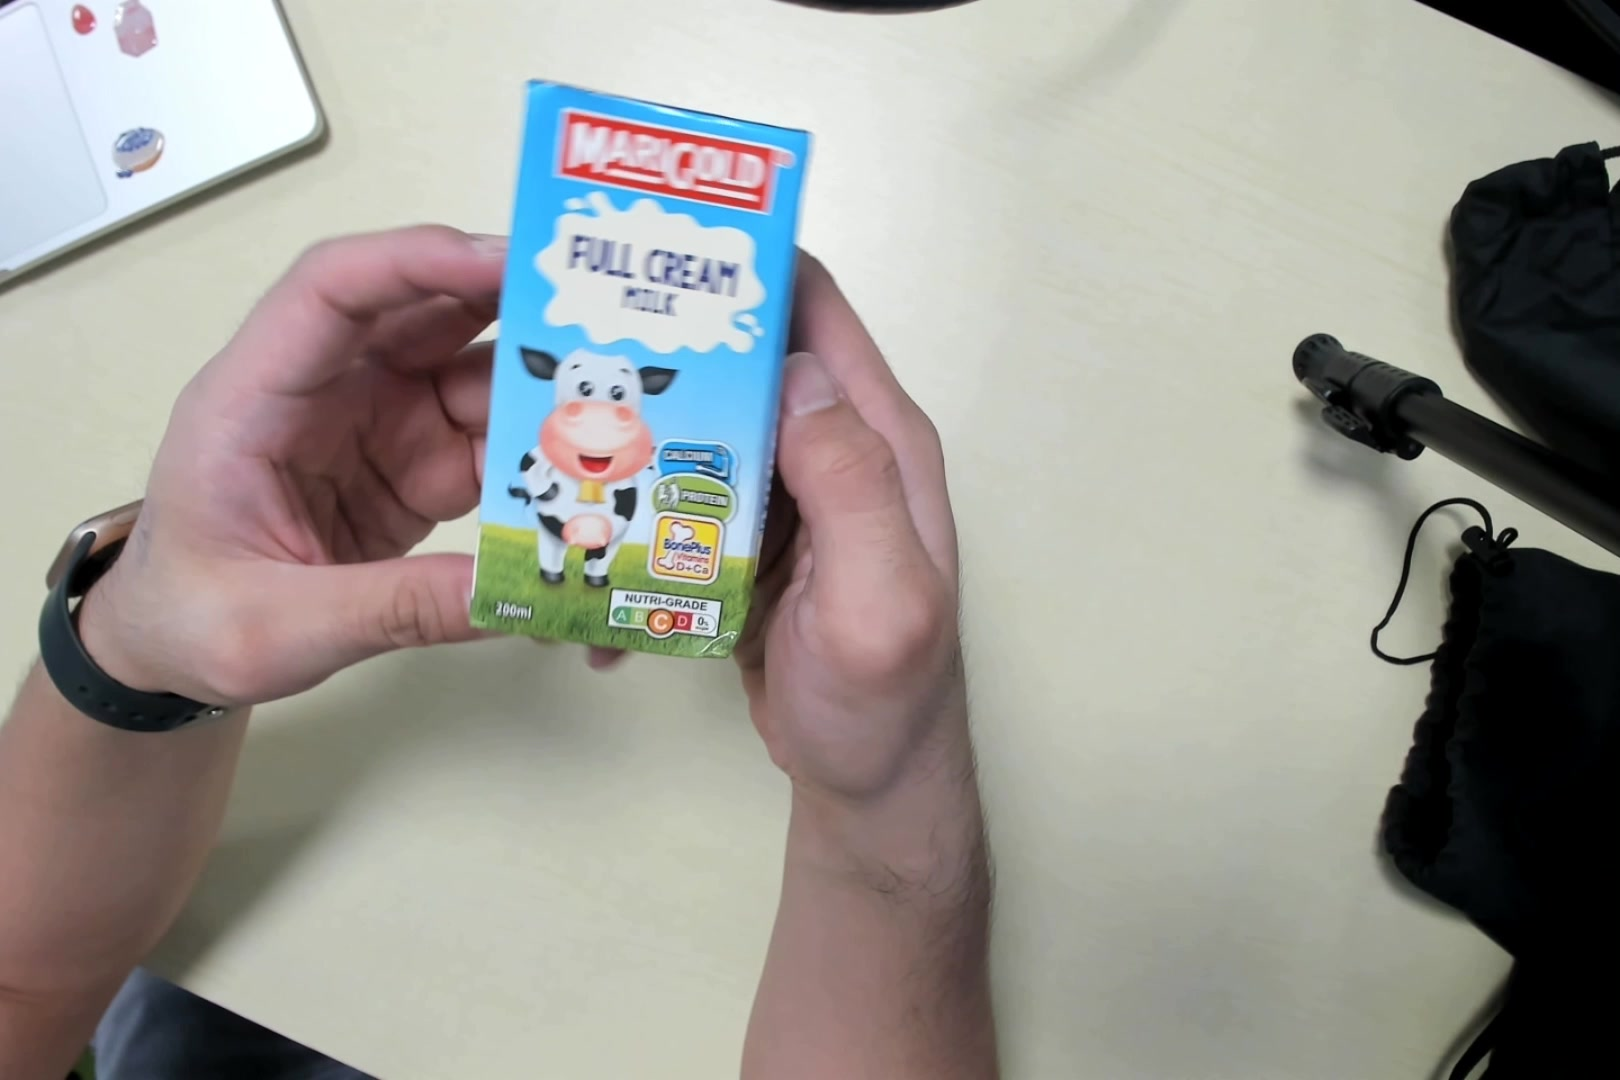Milk(Drink)_200-299g_Halal_NonHealthy: (469, 76, 809, 658)
